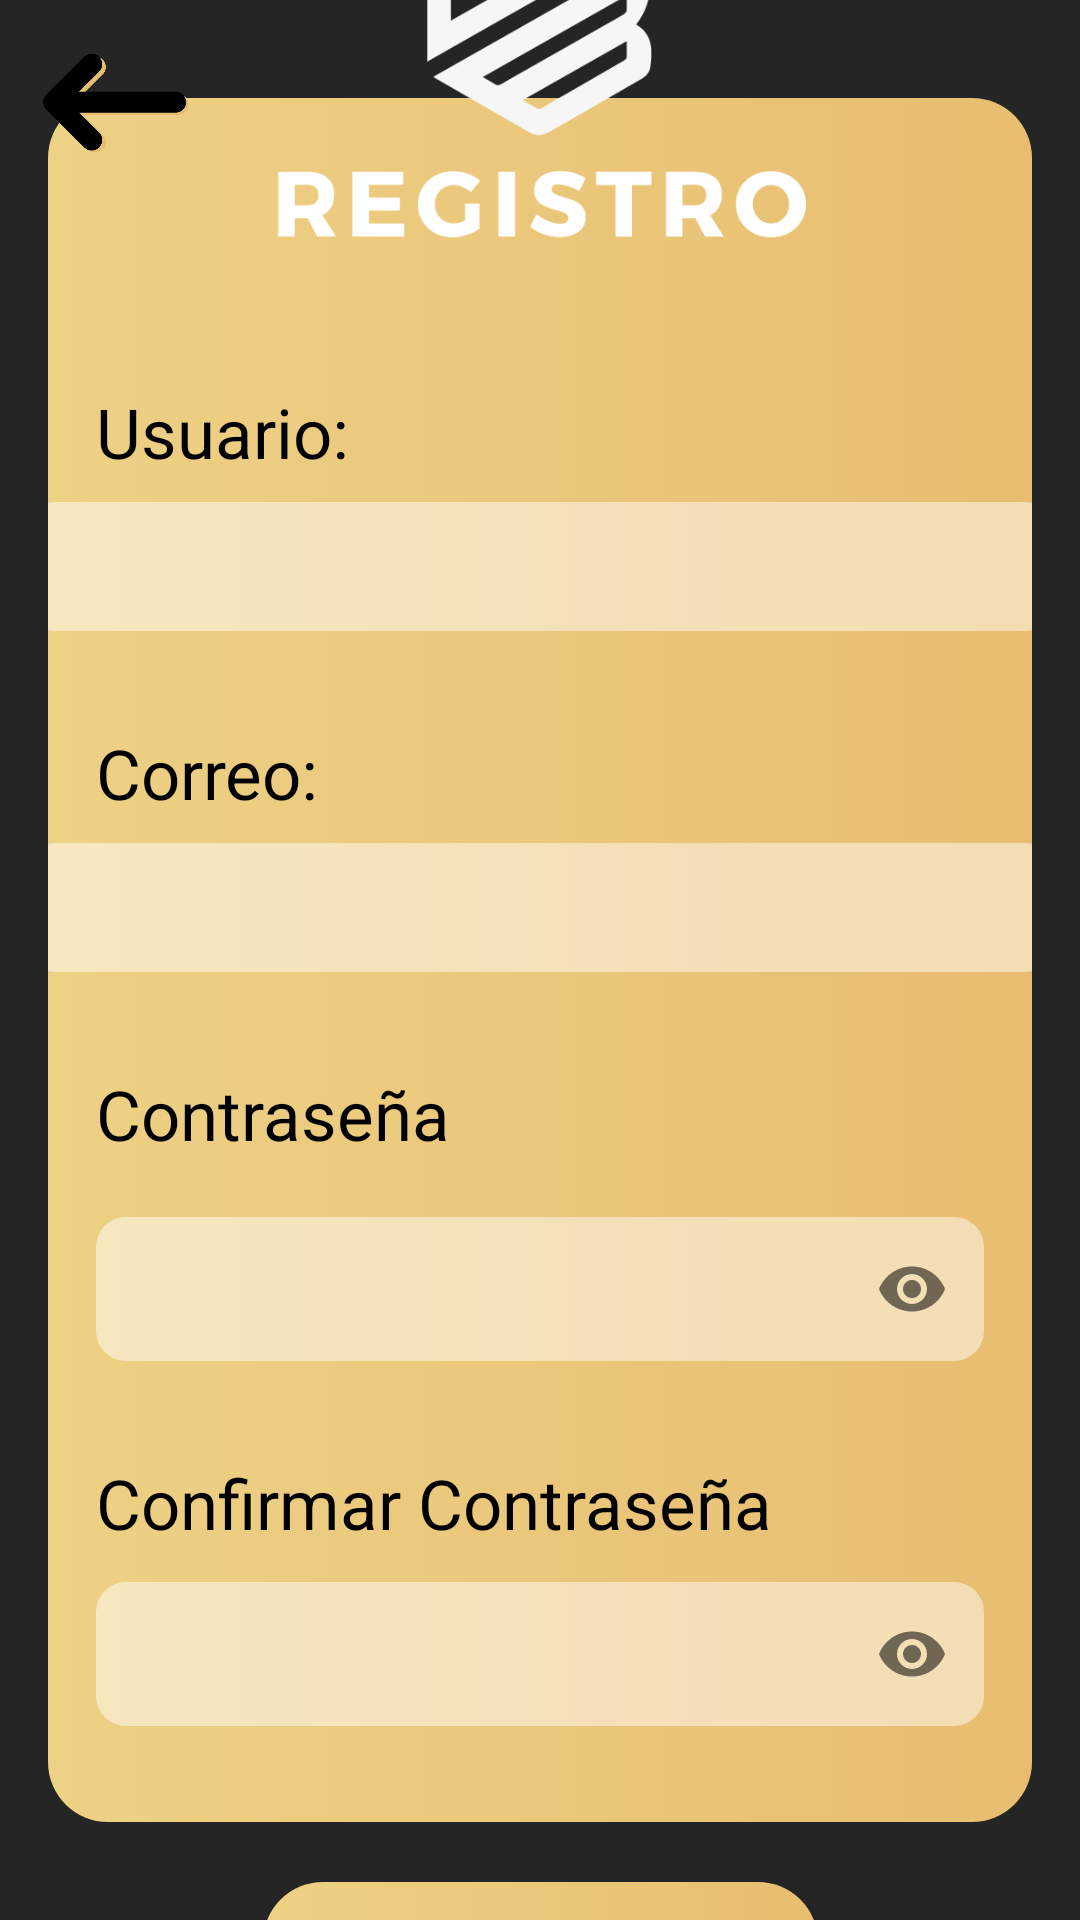

Named icons in this screenshot (1080x1920) and their centers, (x,y):
flechanegrodorado: (117,116)
